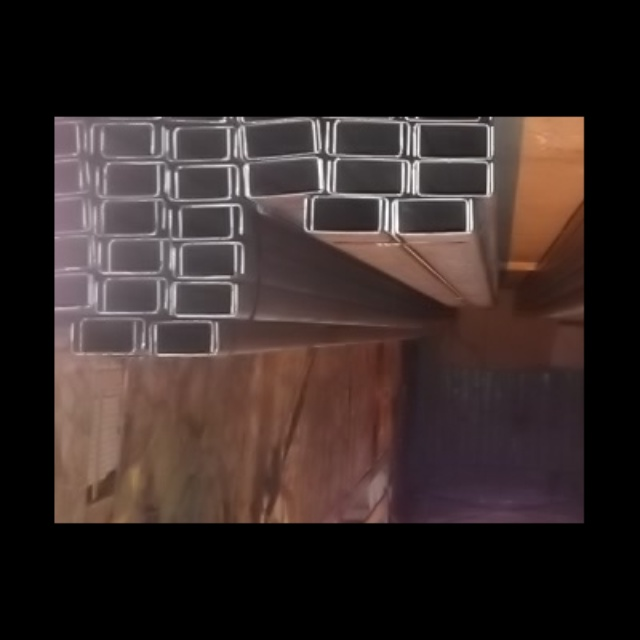Shveller: (243, 120, 321, 160), (239, 121, 316, 159), (247, 162, 322, 198), (244, 158, 319, 193)
